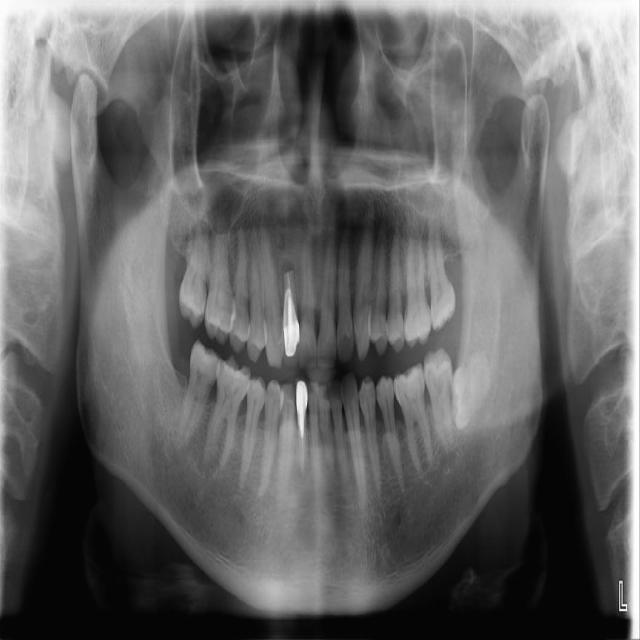Crown: (281, 324, 300, 369), (294, 378, 308, 413)
Periapical lesion: (166, 430, 194, 462), (279, 262, 298, 295), (196, 446, 218, 474)
Root Canal Treatment: (298, 411, 304, 468), (288, 296, 292, 326)
